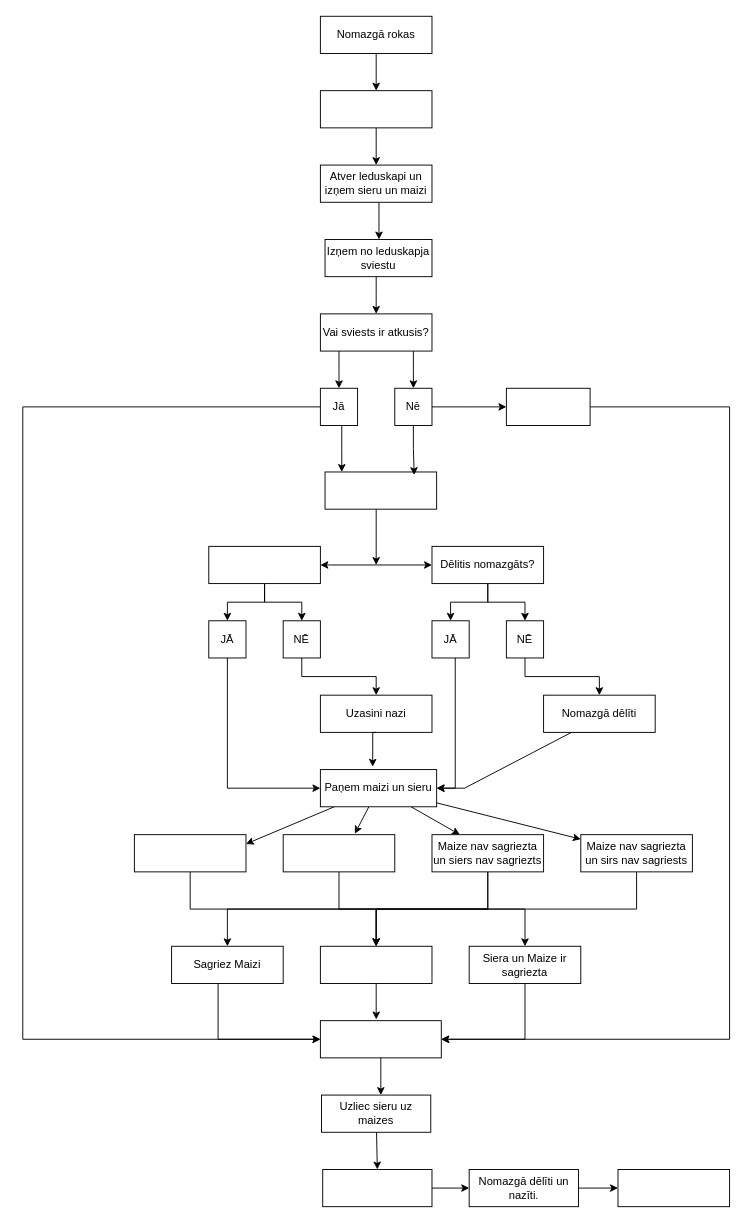
Some shapes in this 753 by 1223 pixel diagram are drawn without their labels. The shapes that lost their labels are listed below. From the top down, each one's centre as x and y in pixels, then its label:
the point at 375,109: Noslauki rokas dvielī
the point at 547,406: Noliec siltā vietā, lai atkūst
the point at 380,490: Paņem dēlīti un nazi
the point at 264,564: Nazis ir ass?
the point at 189,853: Maize ir sagriesta bet siers nav sagriezts
the point at 338,853: Maize ir sagriezta un siers ir sagriests
the point at 375,964: Sagriez Sieru
the point at 380,1039: Uzsmērē uz maizes sviestu
the point at 377,1188: Apēd sviestmaizi
the point at 673,1188: Ieliec leduskapī sieru un maizi
